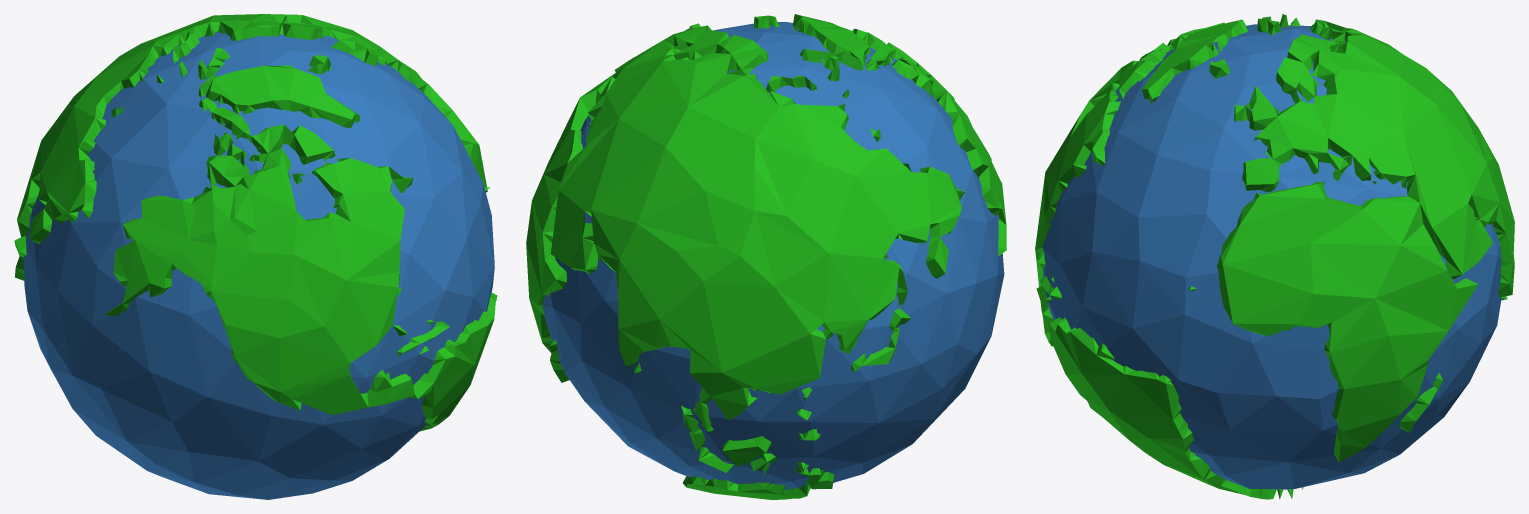
The model's file is earth.glb.
3 views of the same model, side by side, from view 1: azimuth 30°, elevation 25°; view 2: azimuth 150°, elevation 25°; view 3: azimuth 270°, elevation 25° (orthographic).
Visible parts, largest first — view 1: low_poly_earth; view 2: low_poly_earth; view 3: low_poly_earth.
Boxes of the visible parts, left/top/right/bottom form: low_poly_earth: left=14, top=14, right=497, bottom=499; low_poly_earth: left=526, top=14, right=1006, bottom=499; low_poly_earth: left=1035, top=14, right=1514, bottom=499.
Size of the model in its own units: 1.95 by 2.01 by 1.99.
